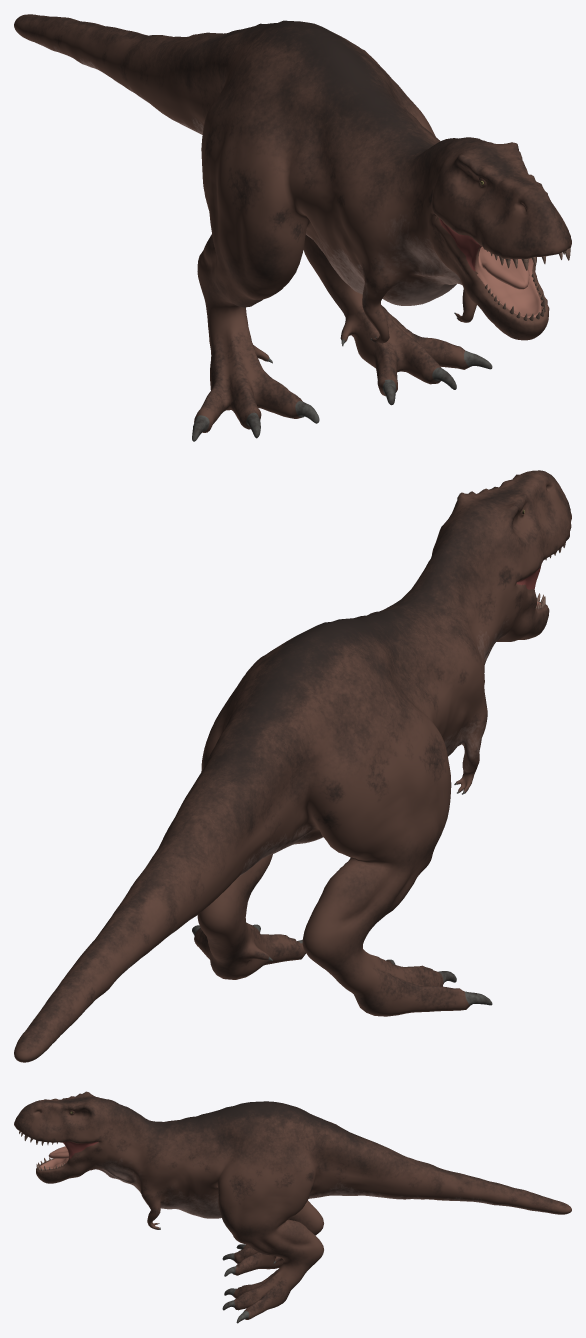
The model's file is T-REX.glb.
The picture shows the model from 3 angles, top to bottom: view 1: azimuth 30°, elevation 25°; view 2: azimuth 150°, elevation 25°; view 3: azimuth 270°, elevation 25°; orthographic projection. The views are drawn at different scales.
Parts seen in each view (by area): view 1: LOW_PORI1, Tooth; view 2: LOW_PORI1; view 3: LOW_PORI1.
Boxes of the visible parts, box(x1,y1,x2,y2) form: LOW_PORI1: box(14, 14, 571, 441); Tooth: box(485, 248, 570, 320); LOW_PORI1: box(14, 470, 571, 1062); LOW_PORI1: box(14, 1091, 571, 1323).
Bounding box in the file's own units: 2.17 × 2.53 × 6.78.
3 materials, 3 textured.
